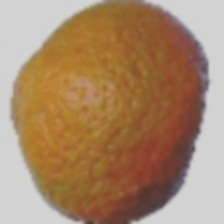tangerine: (30, 27, 193, 224)
